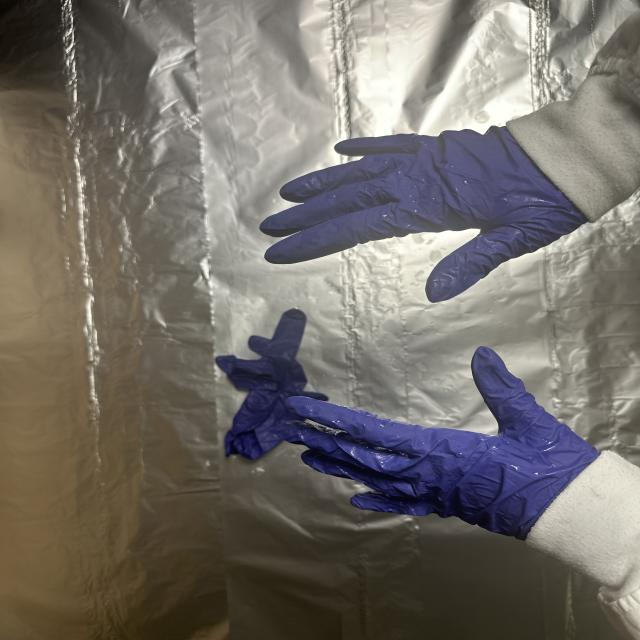gloves_contaminated: (280, 347, 600, 540), (261, 127, 584, 302)
